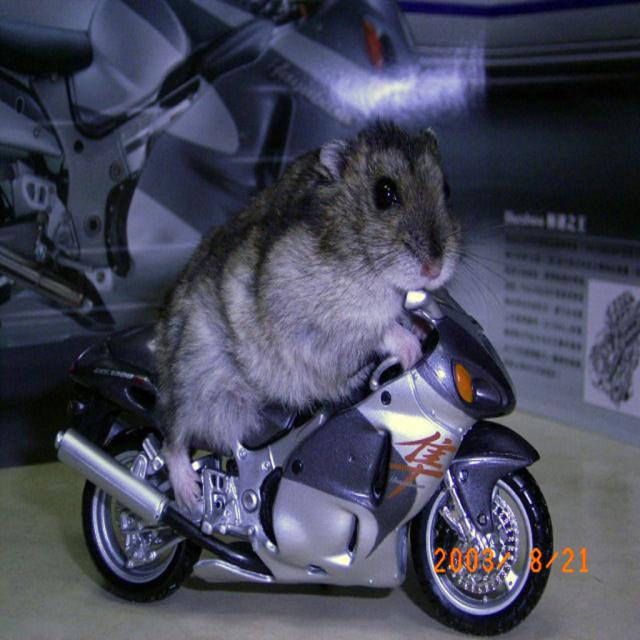Motorbikes: (58, 291, 560, 633)
